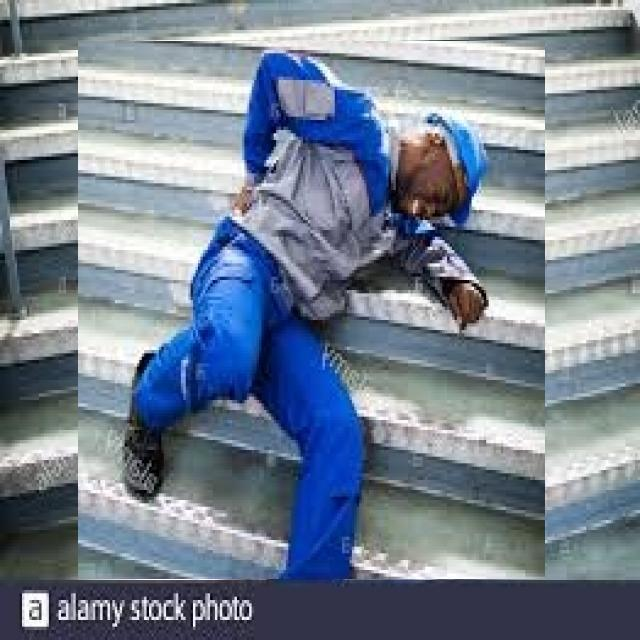Fall: (81, 44, 540, 593)
